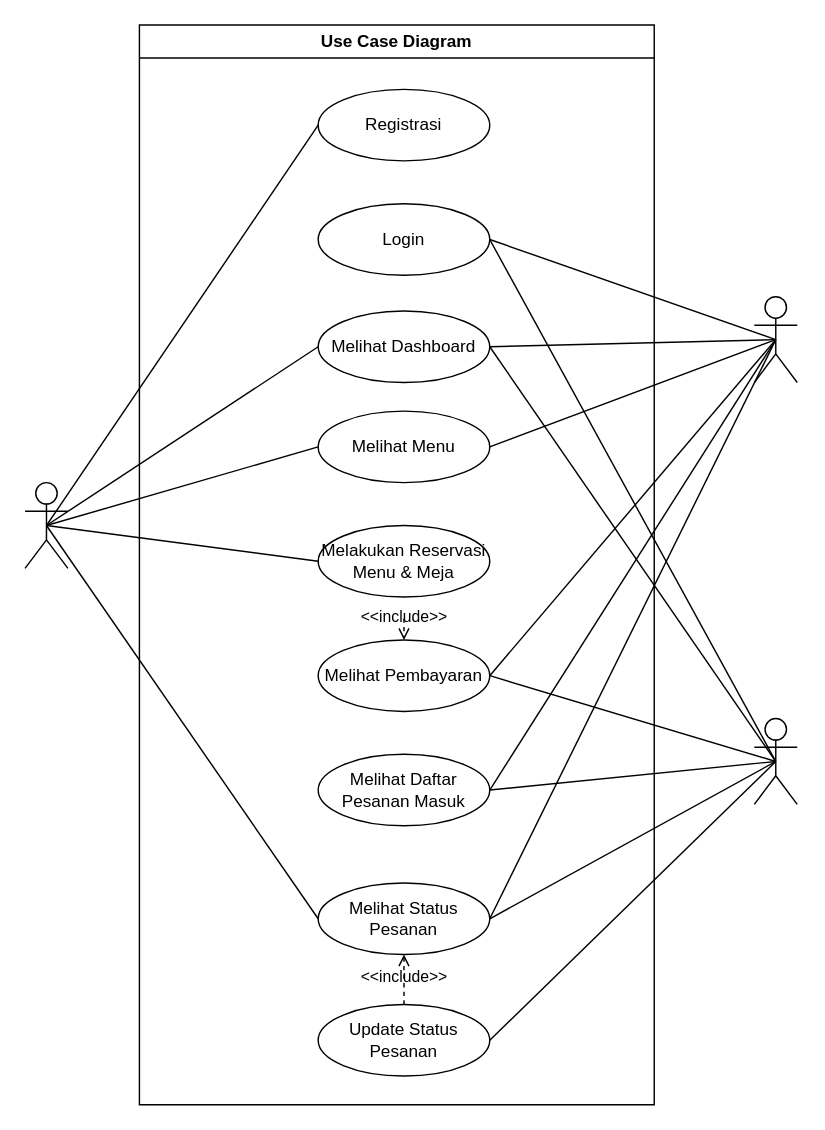
This 825x1130 diagram has some shape labels left out. The centre of each missing label's shape, as x and y in pixels:
Admin: point (775, 339)
Dapur: point (775, 760)
User: point (46, 524)
